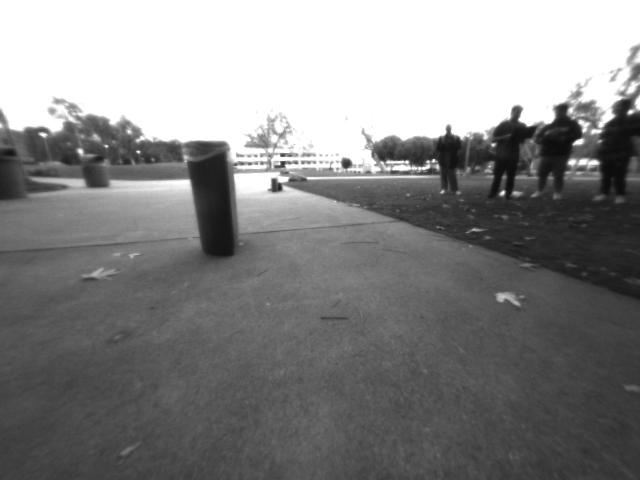trashcan_open: (182, 137, 244, 261)
